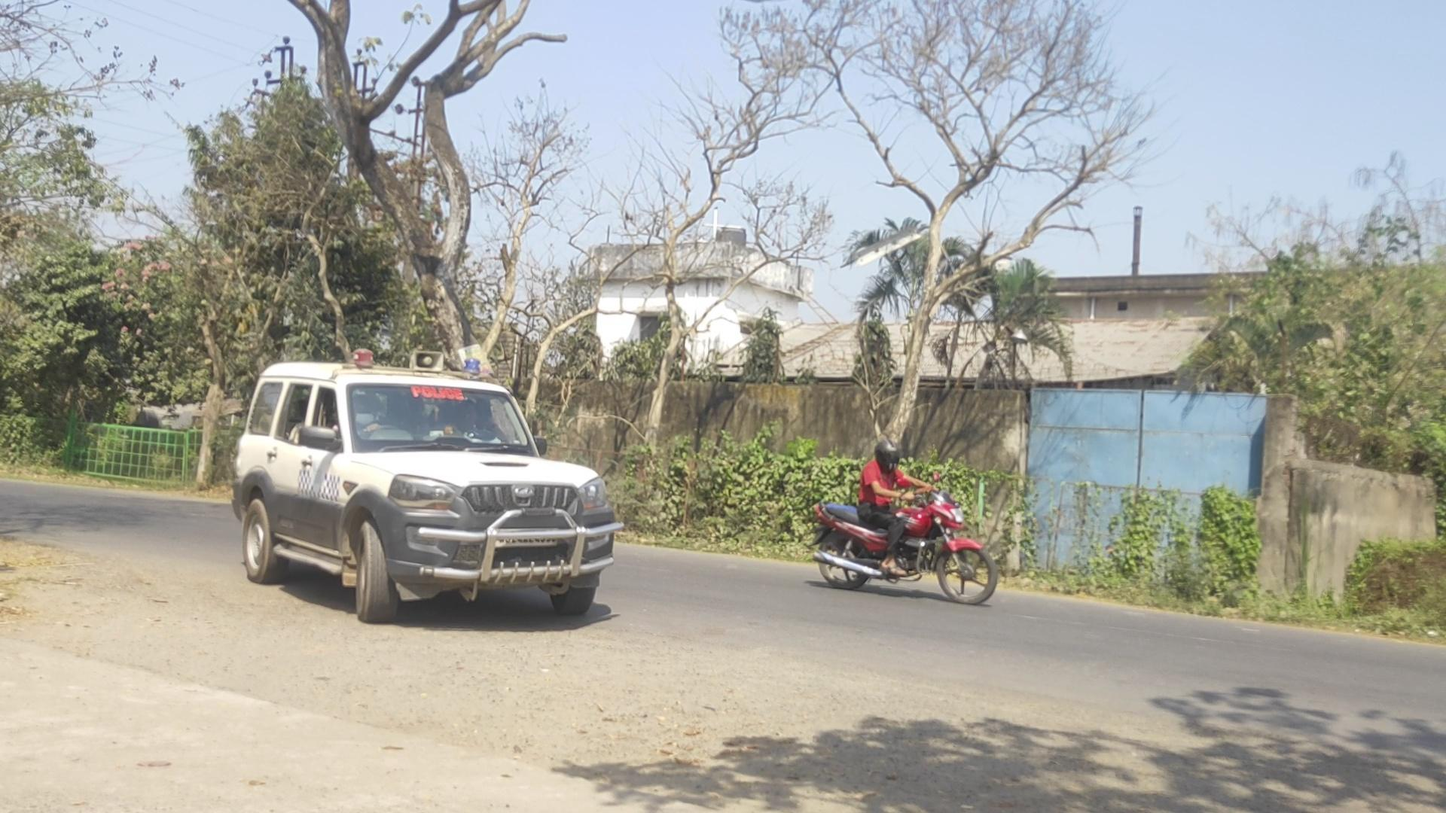bike: (808, 440, 999, 605)
car: (230, 348, 623, 626)
